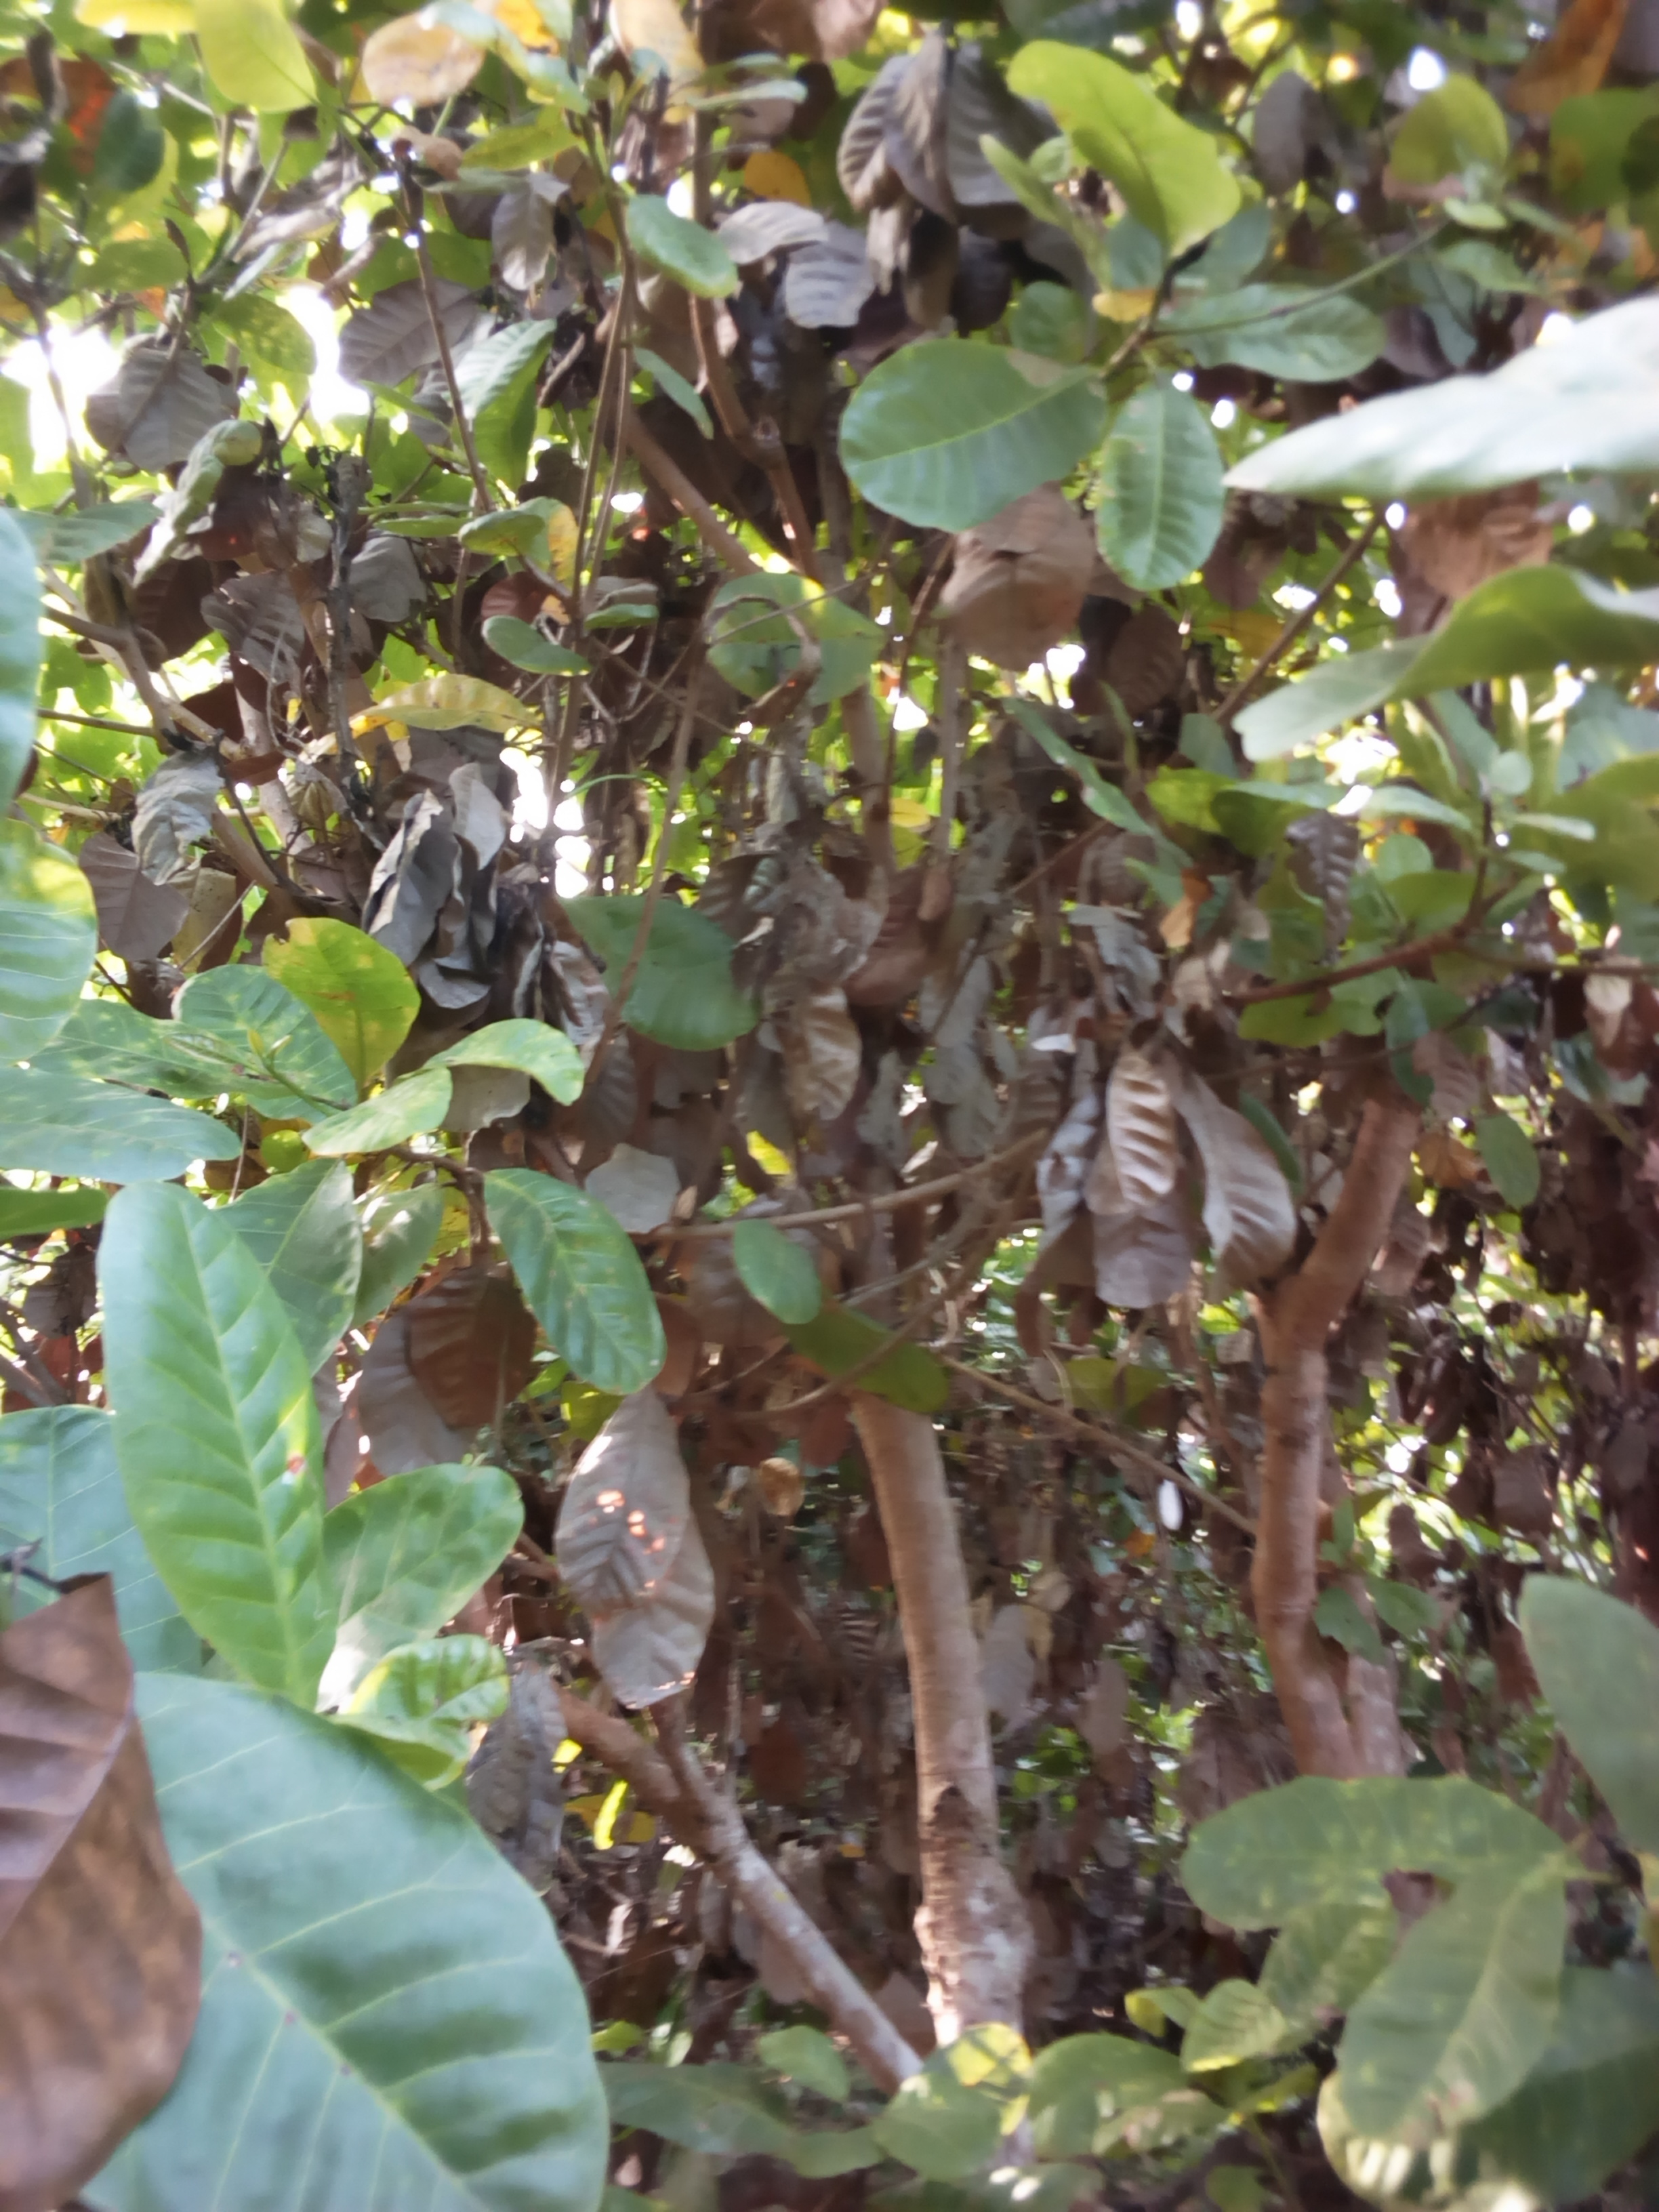Dessèchement des bourgeons: (392, 784, 568, 981)
